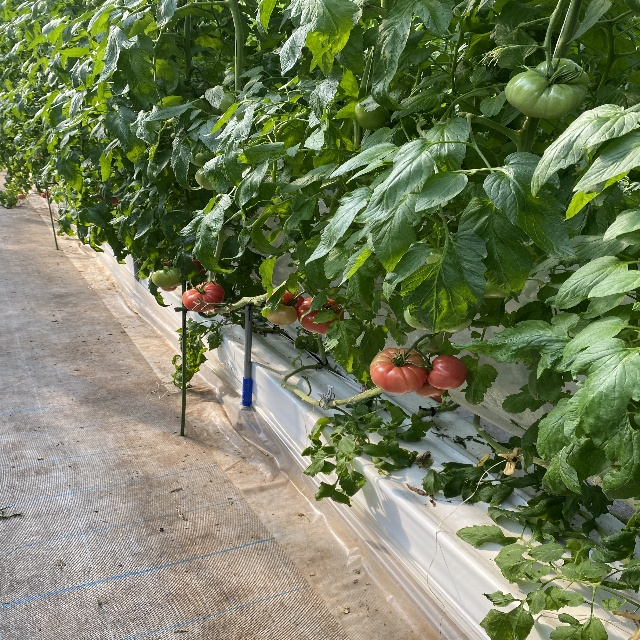b_fully_ripened: (297, 296, 344, 335), (427, 355, 468, 390), (182, 282, 225, 313)
b_green: (505, 58, 590, 119), (151, 267, 189, 288), (266, 304, 298, 326), (195, 167, 215, 191), (190, 149, 215, 166)
b_half_ripened: (369, 348, 430, 394), (414, 379, 446, 398)
